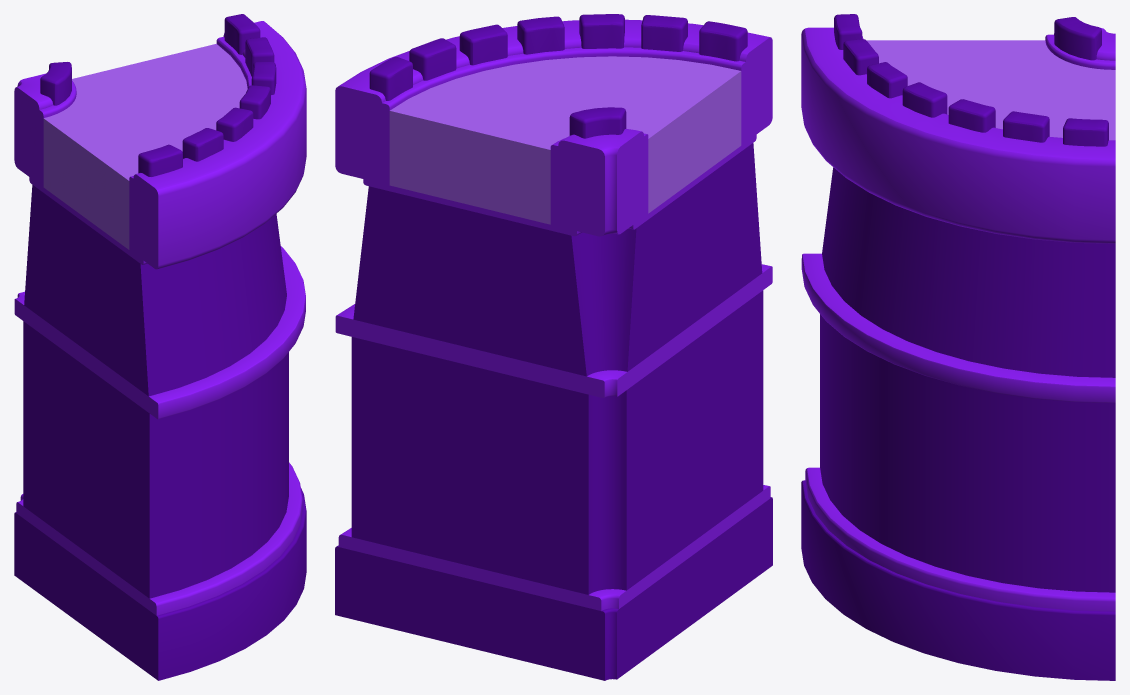
Rendered from mega wall corner (extra height).fbx.
The picture shows the model from 3 angles, left to right: view 1: azimuth 30°, elevation 25°; view 2: azimuth 150°, elevation 25°; view 3: azimuth 270°, elevation 25°; orthographic projection. The views are drawn at different scales.
Visible parts, largest first — view 1: Plane.067; view 2: Plane.067; view 3: Plane.067.
Part boxes in pixels (x1,y1,x2,y2): Plane.067: (14, 14, 306, 680); Plane.067: (335, 14, 772, 680); Plane.067: (801, 14, 1115, 680).
Bounding box in the file's own units: 97.34 × 184 × 97.34.
1 material, 1 textured.
